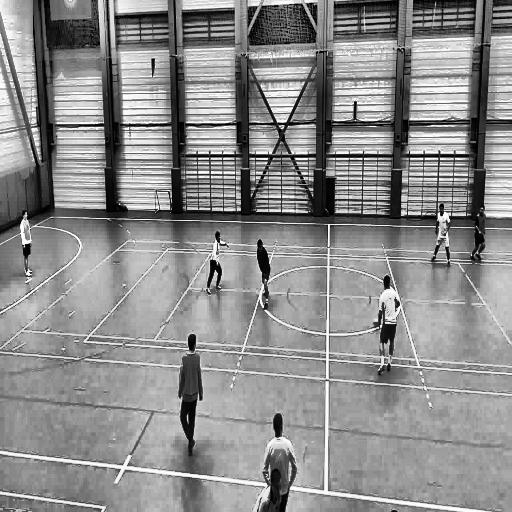ball: (372, 314, 382, 330)
player: (262, 413, 298, 512), (177, 334, 204, 461), (377, 276, 402, 378), (206, 231, 231, 296), (430, 203, 452, 271), (255, 237, 274, 314), (252, 466, 283, 512), (19, 210, 35, 280), (470, 202, 486, 264)
